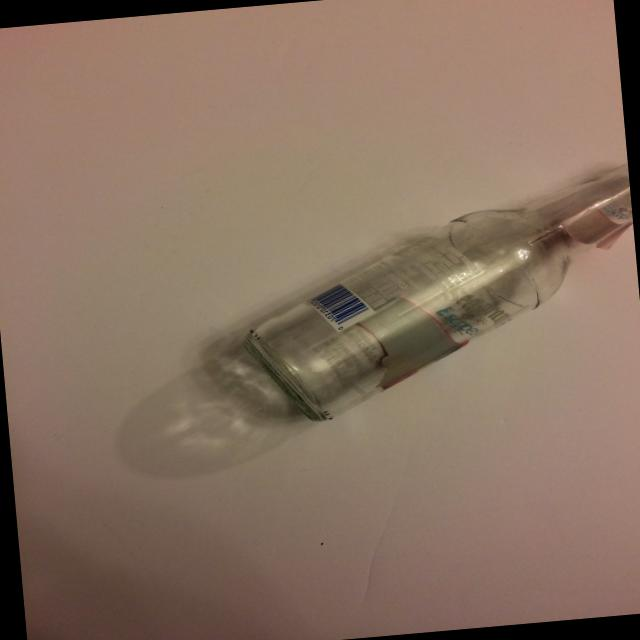Glass: (220, 157, 640, 444)
